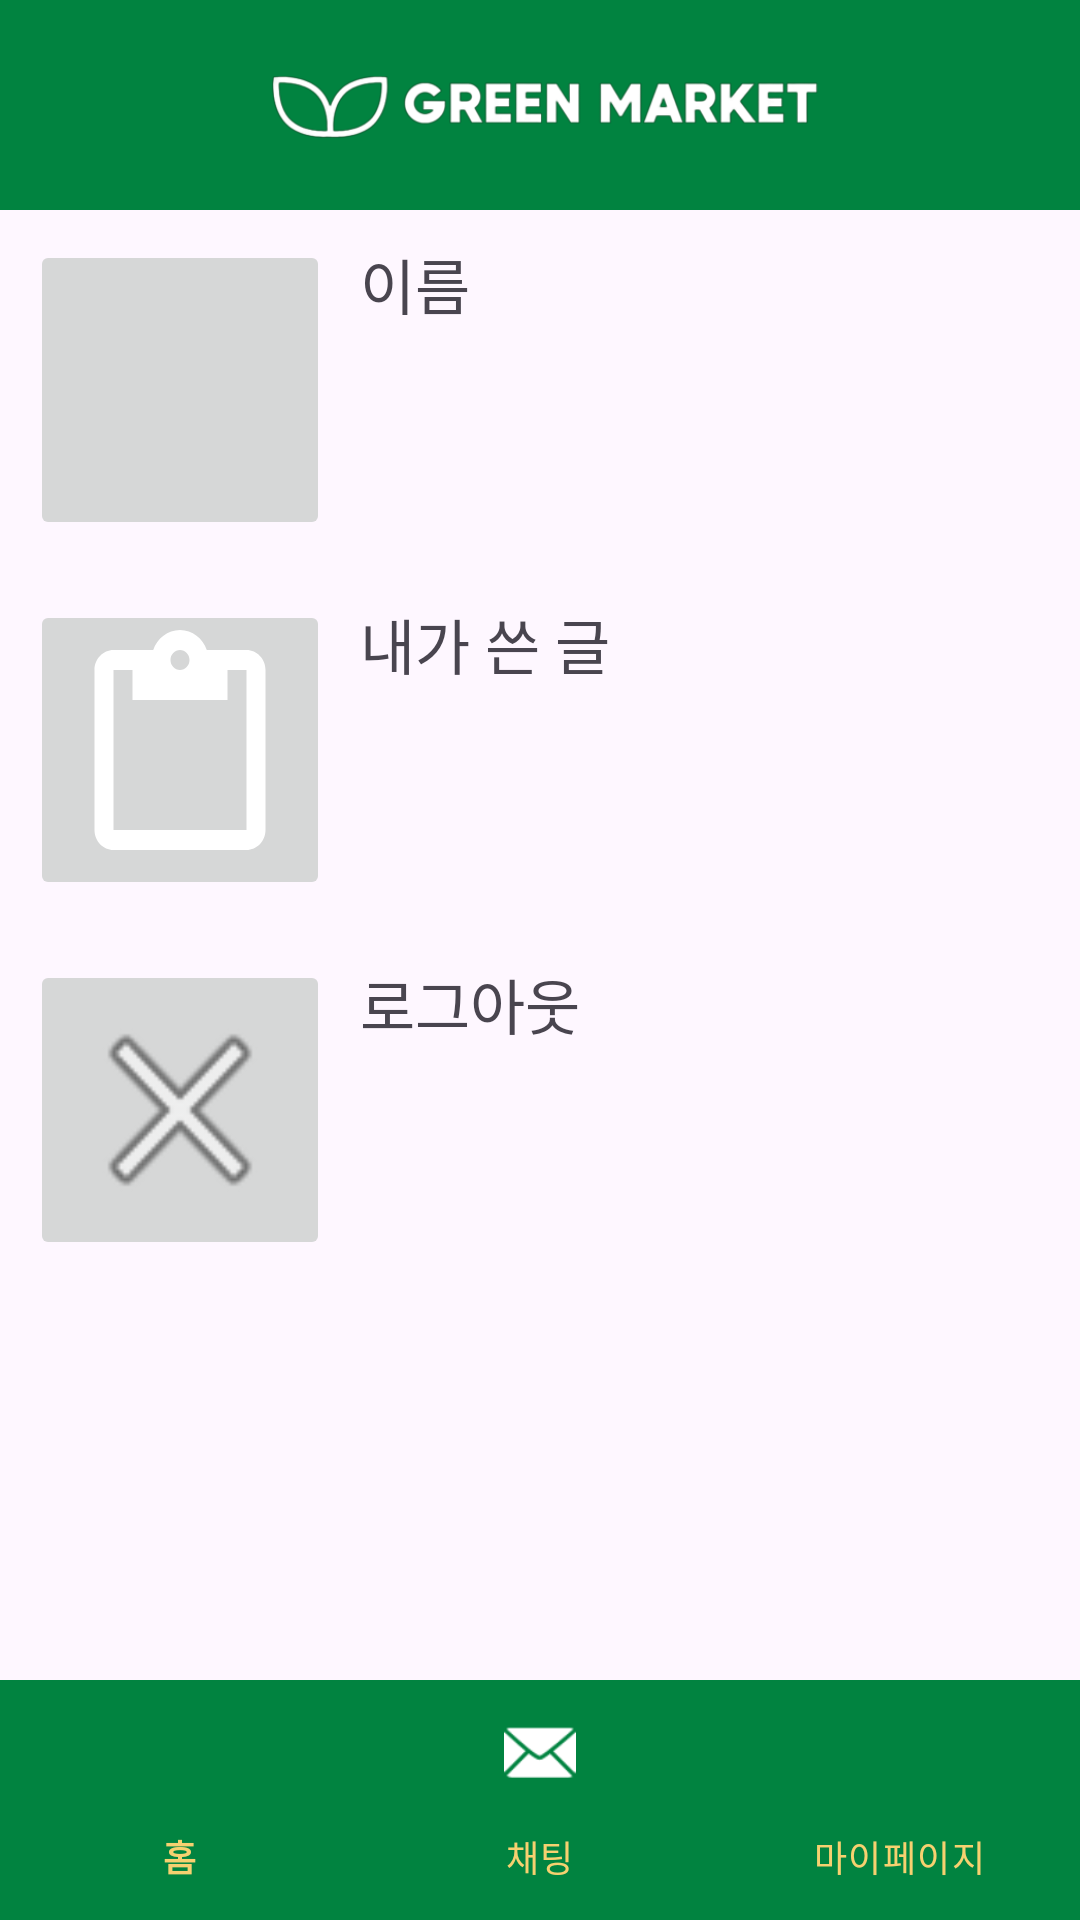

Named icons in this screenshot (1080px x 1920px) and their centers, (x,y):
close clear cancel: (180,1110)
